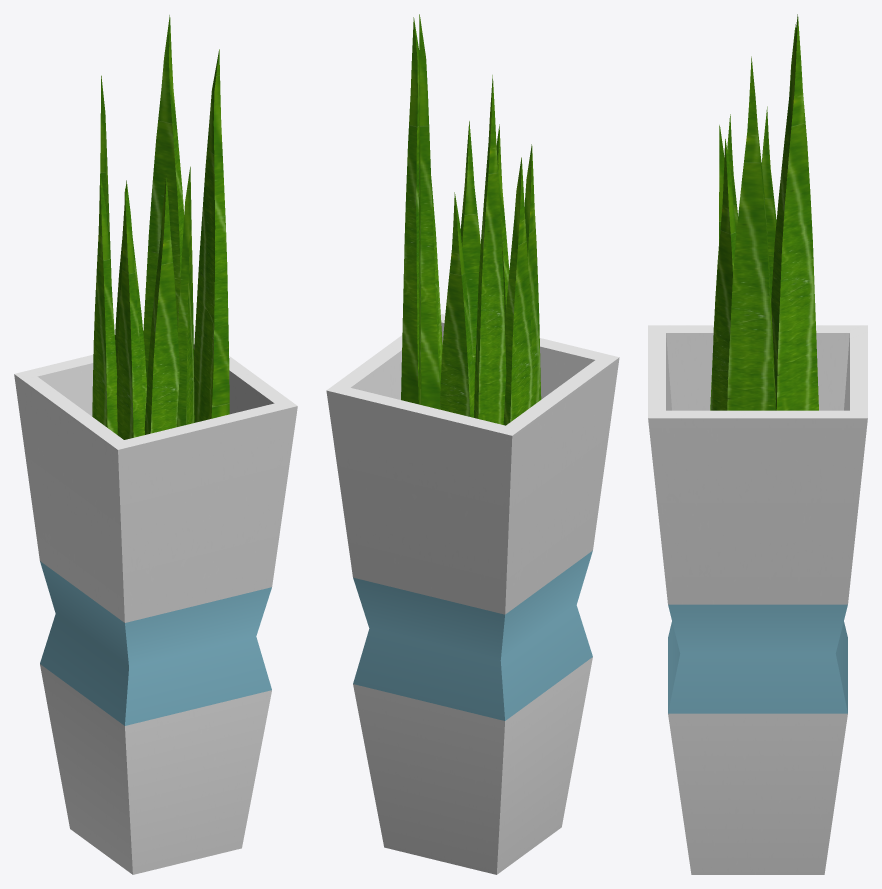
Rendered from vase.fbx.
3 renders of one model, left to right at view 1: azimuth 30°, elevation 25°; view 2: azimuth 150°, elevation 25°; view 3: azimuth 270°, elevation 25°, orthographic. The views are drawn at different scales.
Visible parts, largest first — view 1: pasted__pasted__pCube75, pasted__pasted__pCube82, pasted__pasted__pCube78, pasted__pasted__pCube80, pasted__pasted__pCube76, pasted__pasted__pCube83, pasted__pasted__pCube79, pasted__pasted__pCube81, pasted__pasted__pCube77; view 2: pasted__pasted__pCube75, pasted__pasted__pCube77, pasted__pasted__pCube82, pasted__pasted__pCube78, pasted__pasted__pCube83, pasted__pasted__pCube81, pasted__pasted__pCube79, pasted__pasted__pCube76, pasted__pasted__pCube80; view 3: pasted__pasted__pCube75, pasted__pasted__pCube78, pasted__pasted__pCube82, pasted__pasted__pCube79, pasted__pasted__pCube83, pasted__pasted__pCube76, pasted__pasted__pCube80.
Part boxes in pixels (box(x1,y1,x2,y2)): pasted__pasted__pCube75: box(14, 330, 297, 874); pasted__pasted__pCube82: box(194, 49, 229, 422); pasted__pasted__pCube78: box(143, 15, 184, 384); pasted__pasted__pCube80: box(144, 175, 179, 434); pasted__pasted__pCube76: box(116, 186, 144, 439); pasted__pasted__pCube83: box(92, 174, 117, 434); pasted__pasted__pCube79: box(176, 166, 194, 426); pasted__pasted__pCube81: box(115, 180, 146, 426); pasted__pasted__pCube77: box(100, 75, 111, 280); pasted__pasted__pCube75: box(326, 314, 619, 874); pasted__pasted__pCube77: box(474, 75, 506, 424); pasted__pasted__pCube82: box(401, 17, 442, 404); pasted__pasted__pCube78: box(419, 14, 440, 409); pasted__pasted__pCube83: box(503, 157, 533, 425); pasted__pasted__pCube81: box(440, 192, 474, 417); pasted__pasted__pCube79: box(460, 121, 480, 381); pasted__pasted__pCube76: box(524, 144, 541, 404); pasted__pasted__pCube80: box(496, 124, 509, 322); pasted__pasted__pCube75: box(648, 325, 867, 874); pasted__pasted__pCube78: box(771, 14, 818, 410); pasted__pasted__pCube82: box(727, 56, 776, 410); pasted__pasted__pCube79: box(711, 139, 736, 410); pasted__pasted__pCube83: box(761, 106, 776, 300); pasted__pasted__pCube76: box(710, 114, 737, 410); pasted__pasted__pCube80: box(718, 125, 724, 251).
Bounding box in the file's own units: 2.44 × 10.42 × 2.44.
4 materials, 2 textured.
